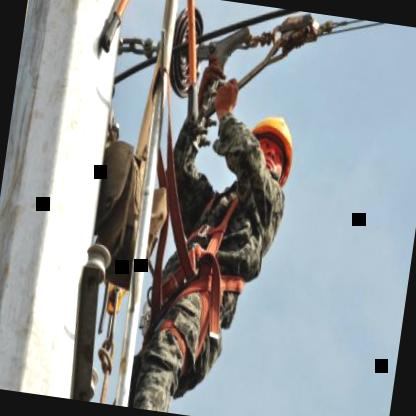helmet: (240, 103, 304, 195)
